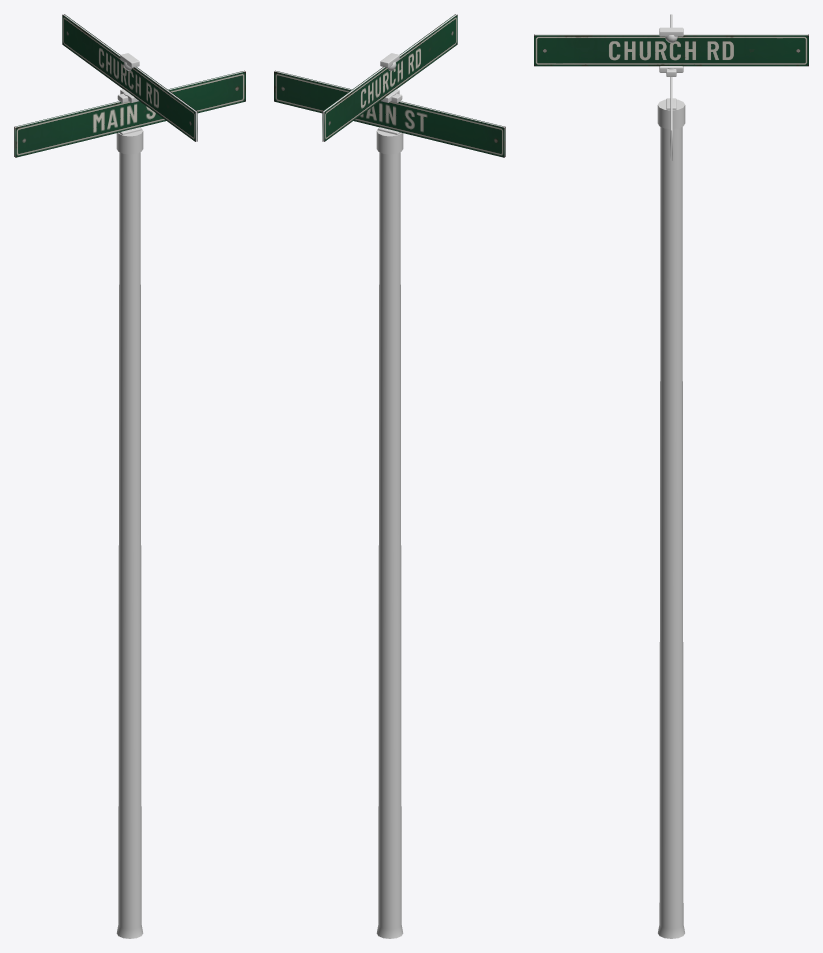
File: SM_Sign_Street_Church.fbx
The picture shows the model from 3 angles, left to right: view 1: azimuth 30°, elevation 25°; view 2: azimuth 150°, elevation 25°; view 3: azimuth 270°, elevation 25°; orthographic projection. The views are drawn at different scales.
Visible parts, largest first — view 1: SM_Sign_Street_Church_1; view 2: SM_Sign_Street_Church_1; view 3: SM_Sign_Street_Church_1.
Boxes of the visible parts, box(x1,y1,x2,y2) form: SM_Sign_Street_Church_1: box(14, 14, 245, 938); SM_Sign_Street_Church_1: box(274, 14, 505, 938); SM_Sign_Street_Church_1: box(534, 14, 808, 938).
Size of the model in its own units: 80 by 290 by 80.
